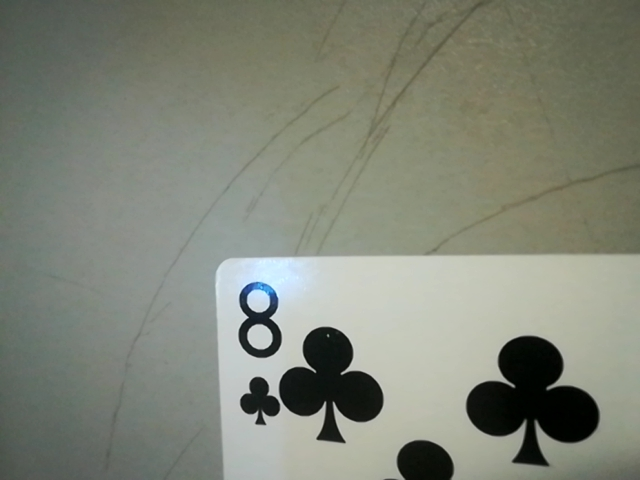mh 8: (221, 272, 290, 437)
